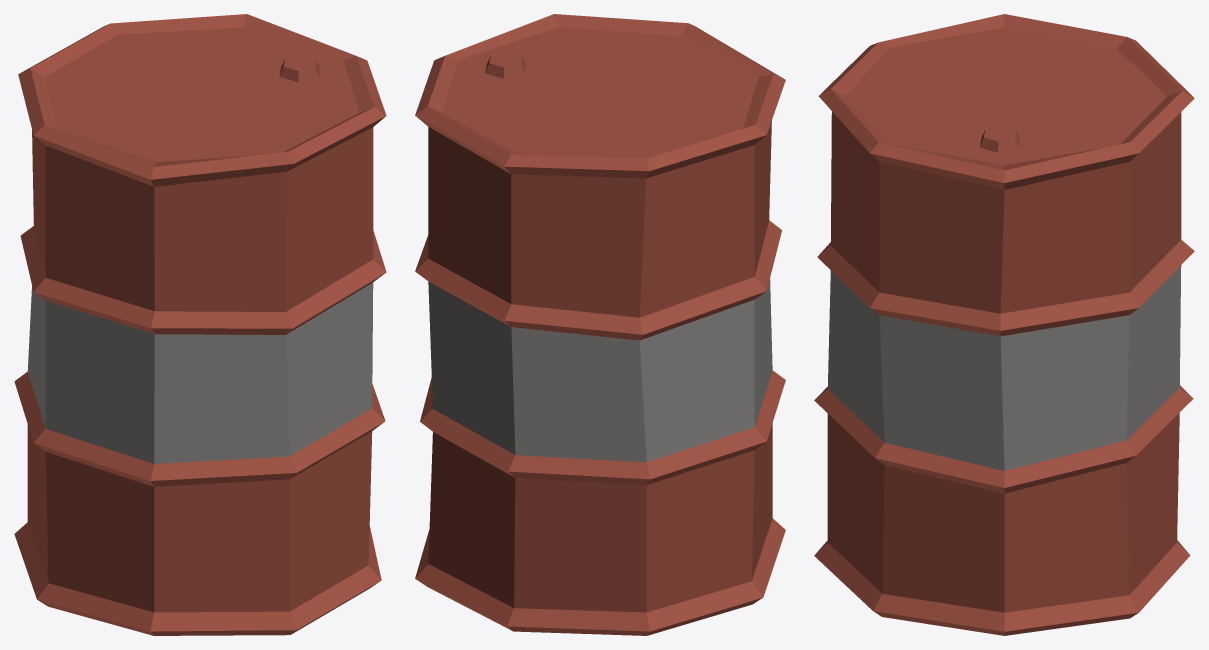
Rendered from Barrel.fbx.
The picture shows the model from 3 angles, left to right: view 1: azimuth 30°, elevation 25°; view 2: azimuth 150°, elevation 25°; view 3: azimuth 270°, elevation 25°; orthographic projection.
Parts seen in each view (by area): view 1: Barrel; view 2: Barrel; view 3: Barrel.
Boxes of the visible parts, bbox=[...] form: Barrel: bbox=[14, 14, 386, 635]; Barrel: bbox=[415, 14, 785, 635]; Barrel: bbox=[814, 14, 1194, 635].
Size of the model in its own units: 59.88 by 82.96 by 59.88.
Materials: 1 (1 with a texture image).
